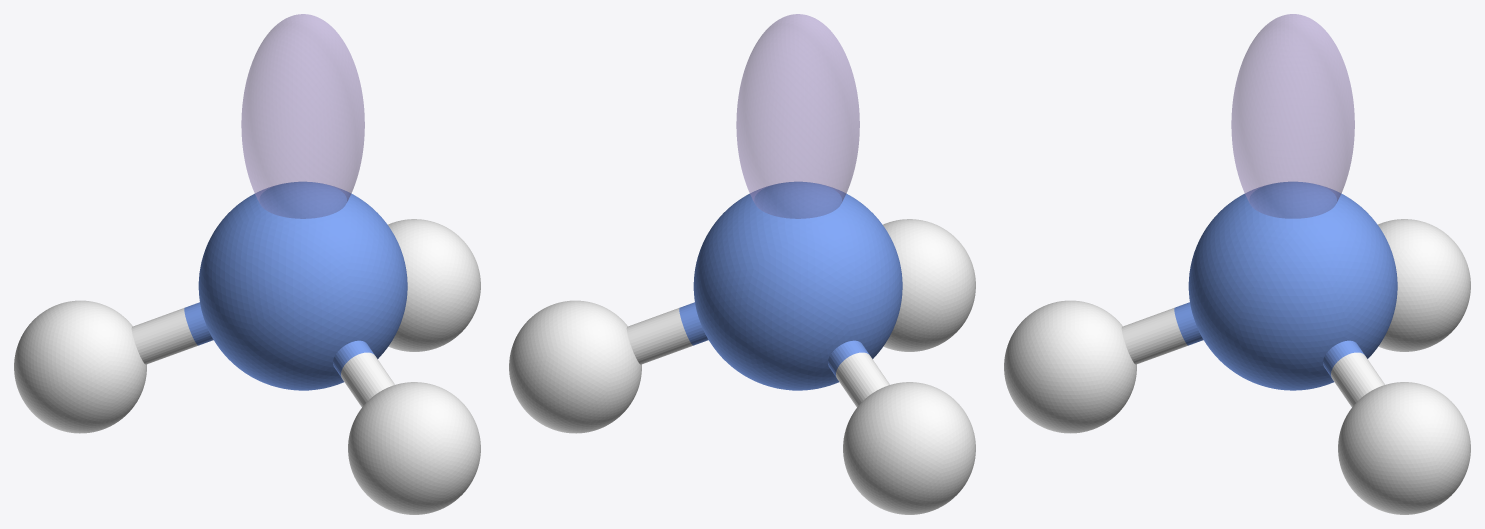
3 views of the same model, side by side, from view 1: azimuth 30°, elevation 25°; view 2: azimuth 150°, elevation 25°; view 3: azimuth 270°, elevation 25° (orthographic).
Visible parts, largest first — view 1: N1, lone_pair1, H1, H2, H3, bond1_0b, bond0_0b, bond1_0a, bond0_0a; view 2: N1, lone_pair1, H2, H3, H1, bond2_0b, bond1_0b, bond2_0a, bond1_0a; view 3: N1, lone_pair1, H3, H1, H2, bond0_0b, bond2_0b, bond0_0a, bond2_0a.
Boxes of the visible parts, bbox=[...] form: N1: bbox=[198, 181, 407, 390]; lone_pair1: bbox=[241, 14, 364, 218]; H1: bbox=[348, 382, 480, 514]; H2: bbox=[14, 300, 146, 433]; H3: bbox=[388, 219, 480, 351]; bond1_0b: bbox=[131, 308, 197, 364]; bond0_0b: bbox=[341, 352, 394, 407]; bond1_0a: bbox=[184, 302, 213, 345]; bond0_0a: bbox=[333, 340, 374, 377]; N1: bbox=[693, 181, 902, 390]; lone_pair1: bbox=[736, 14, 859, 218]; H2: bbox=[843, 382, 975, 514]; H3: bbox=[509, 300, 641, 433]; H1: bbox=[883, 219, 975, 351]; bond2_0b: bbox=[626, 308, 692, 364]; bond1_0b: bbox=[836, 352, 889, 407]; bond2_0a: bbox=[679, 302, 708, 345]; bond1_0a: bbox=[828, 340, 869, 377]; N1: bbox=[1188, 181, 1397, 390]; lone_pair1: bbox=[1231, 14, 1354, 218]; H3: bbox=[1338, 382, 1470, 514]; H1: bbox=[1004, 300, 1136, 433]; H2: bbox=[1378, 219, 1470, 351]; bond0_0b: bbox=[1121, 308, 1187, 364]; bond2_0b: bbox=[1331, 352, 1384, 407]; bond0_0a: bbox=[1174, 302, 1203, 345]; bond2_0a: bbox=[1323, 340, 1364, 377].
Size of the model in its own units: 0.2184 by 0.1906 by 0.1966.
